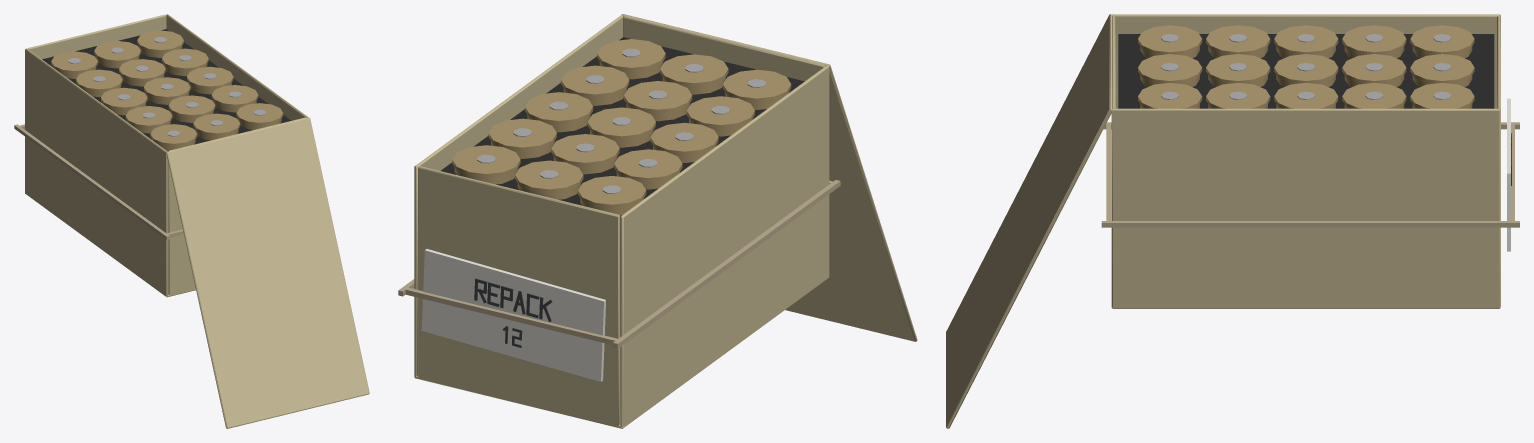
File: ammo_12ga_repack.glb
3 views of the same model, side by side, from view 1: azimuth 30°, elevation 25°; view 2: azimuth 150°, elevation 25°; view 3: azimuth 270°, elevation 25° (orthographic). The views are drawn at different scales.
Parts seen in each view (by area): view 1: body; view 2: body; view 3: body.
Part boxes in pixels (box(x1,y1,x2,y2)): body: box(14, 14, 369, 428); body: box(398, 14, 917, 428); body: box(946, 14, 1519, 428).
Bounding box in the file's own units: 0.0734 × 0.1089 × 0.177.
